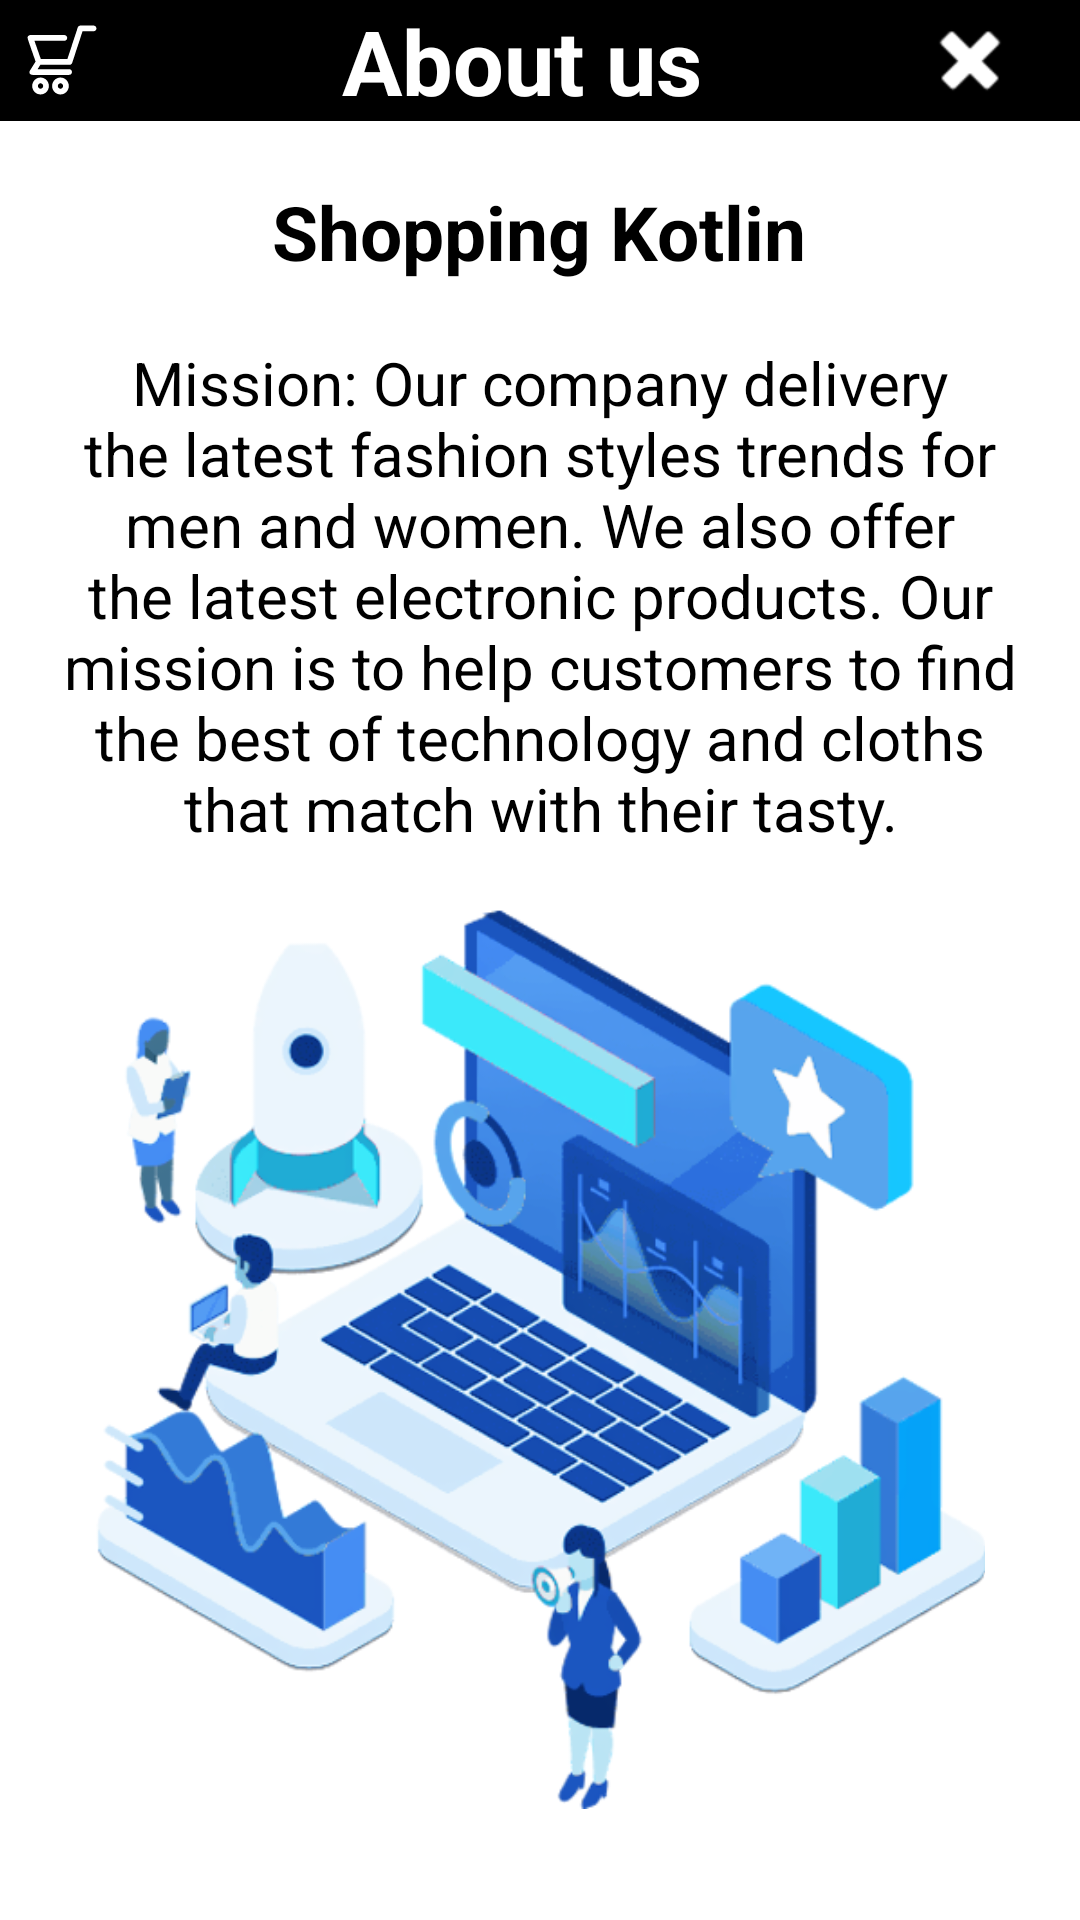

Icons on this 1080×1920 Android screen, each with its box as (x1, y1, x2, y2):
delete: (939, 31, 1001, 90)
shopping cart: (27, 25, 97, 95)
